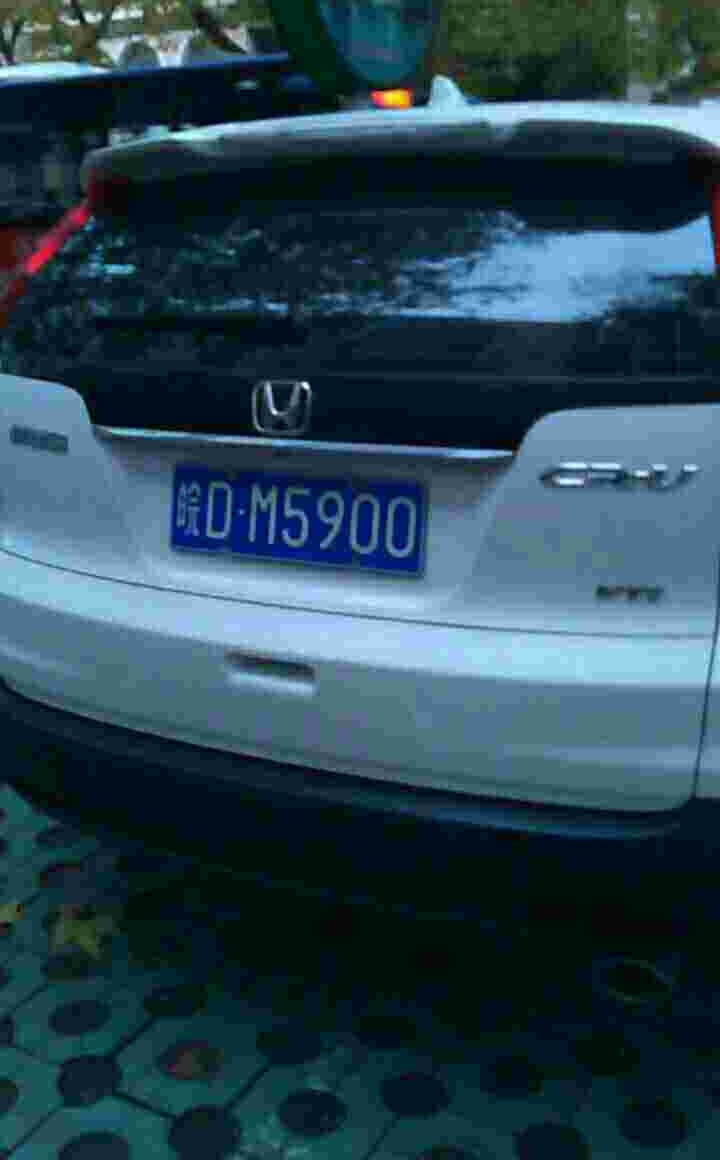license_plate: (155, 459, 427, 569)
